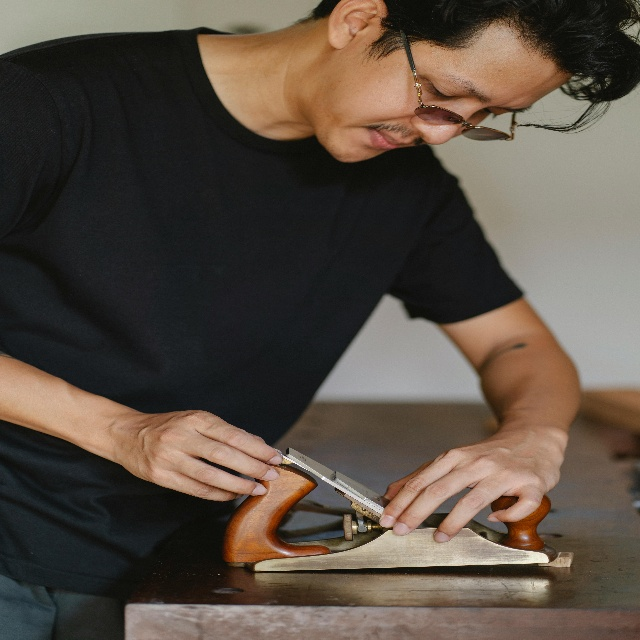Gafas: (398, 23, 517, 143)
Sin_guantes: (379, 427, 560, 543), (115, 408, 283, 503)
